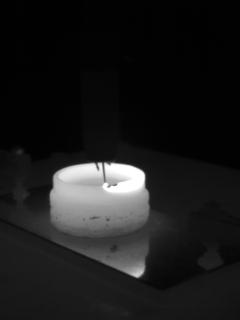tip_wire_left: (85, 156, 108, 187)
tip_wire_right: (104, 154, 117, 188)
